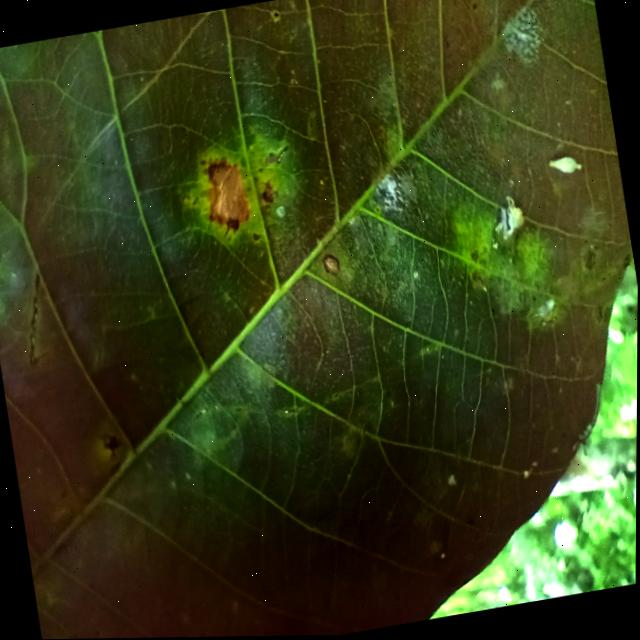Colletotrichum: (321, 252, 342, 278)
Leaf-Blight: (203, 163, 254, 228)
